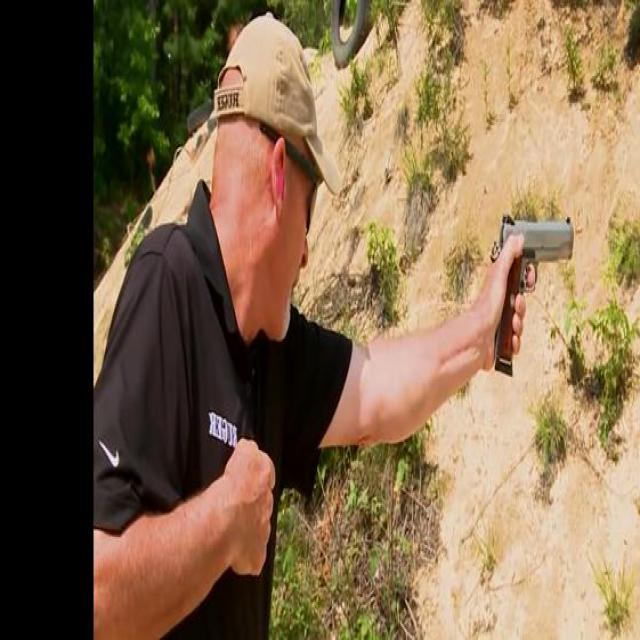Gun: (490, 212, 580, 376)
